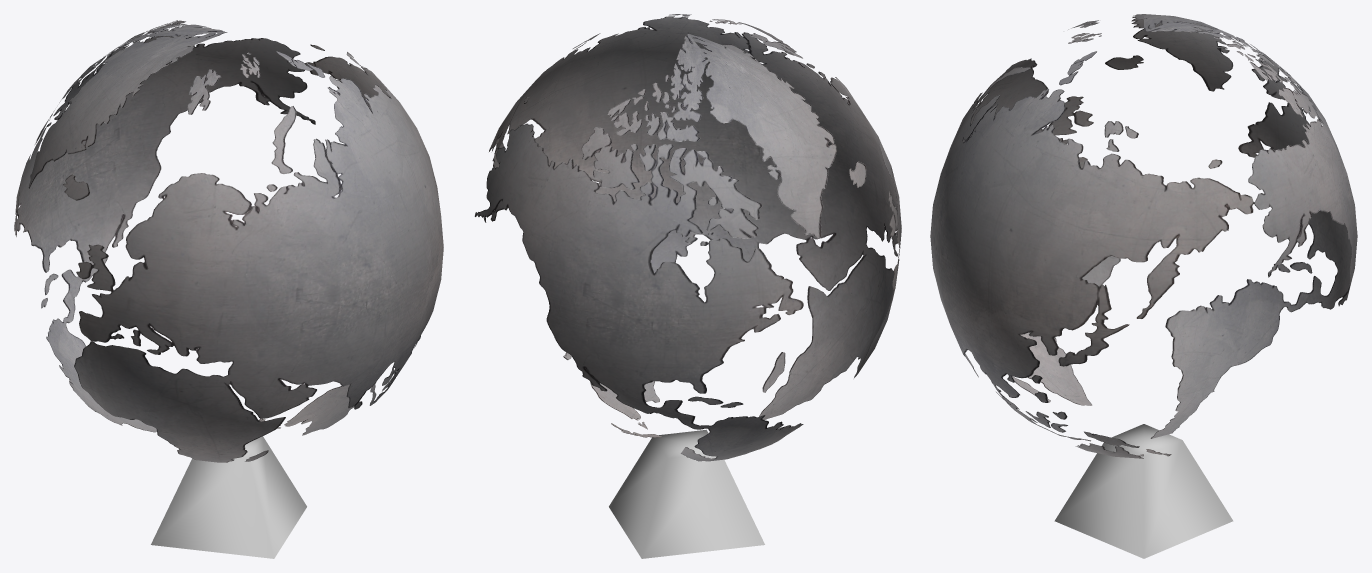
File: Globe.fbx
3 renders of one model, left to right at view 1: azimuth 30°, elevation 25°; view 2: azimuth 150°, elevation 25°; view 3: azimuth 270°, elevation 25°, orthographic.
Visible parts, largest first — view 1: pSphere1, pPyramid1; view 2: pSphere1, pPyramid1; view 3: pSphere1, pPyramid1.
Part boxes in pixels (x1,y1,x2,y2): pSphere1: (14, 20, 443, 462); pPyramid1: (151, 436, 306, 558); pSphere1: (474, 14, 901, 461); pPyramid1: (609, 429, 764, 558); pSphere1: (930, 14, 1357, 458); pPyramid1: (1054, 424, 1233, 558).
Size of the model in its own units: 15.11 by 19.06 by 15.09.
